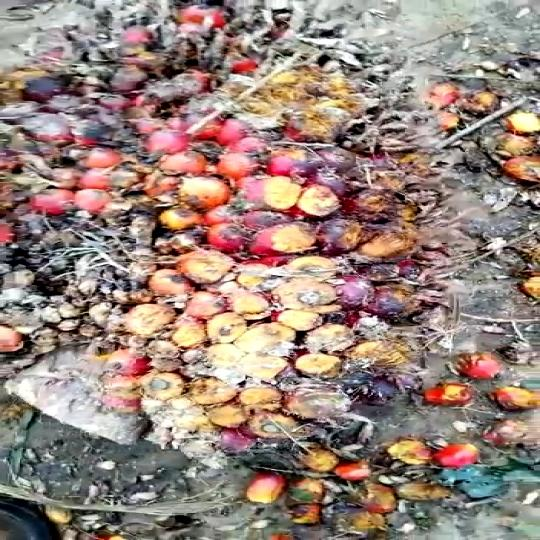masak: (0, 0, 489, 466)
